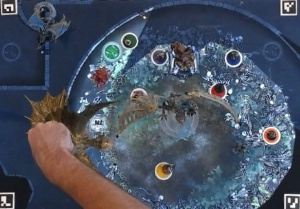blue: (223, 49, 244, 69)
green: (121, 31, 141, 51)
orange: (260, 122, 282, 147)
pink: (129, 85, 150, 106)
red: (210, 80, 231, 100)
violet: (150, 46, 170, 66)
yellow: (154, 160, 174, 181)
